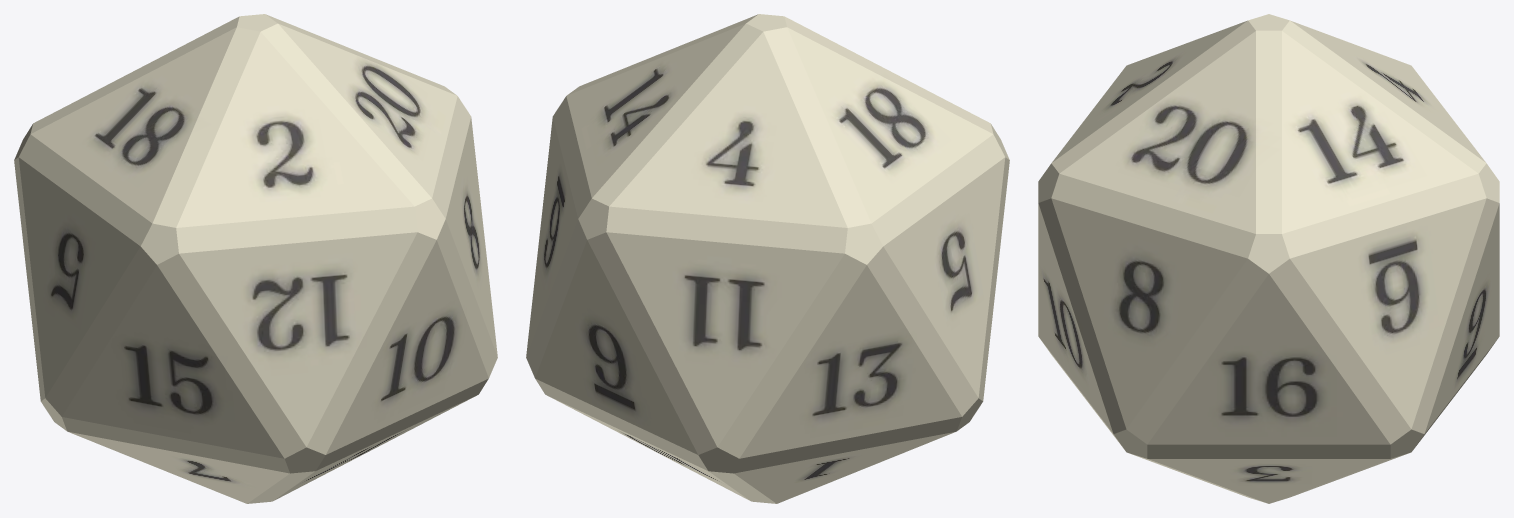
3 views of the same model, side by side, from view 1: azimuth 30°, elevation 25°; view 2: azimuth 150°, elevation 25°; view 3: azimuth 270°, elevation 25° (orthographic).
Visible parts, largest first — view 1: D20; view 2: D20; view 3: D20.
Part boxes in pixels (left/top/right/bottom): D20: left=14, top=14, right=497, bottom=503; D20: left=526, top=14, right=1009, bottom=503; D20: left=1038, top=14, right=1499, bottom=503.
Size of the model in its own units: 2.8 by 3.01 by 2.66.
1 material, 1 textured.
